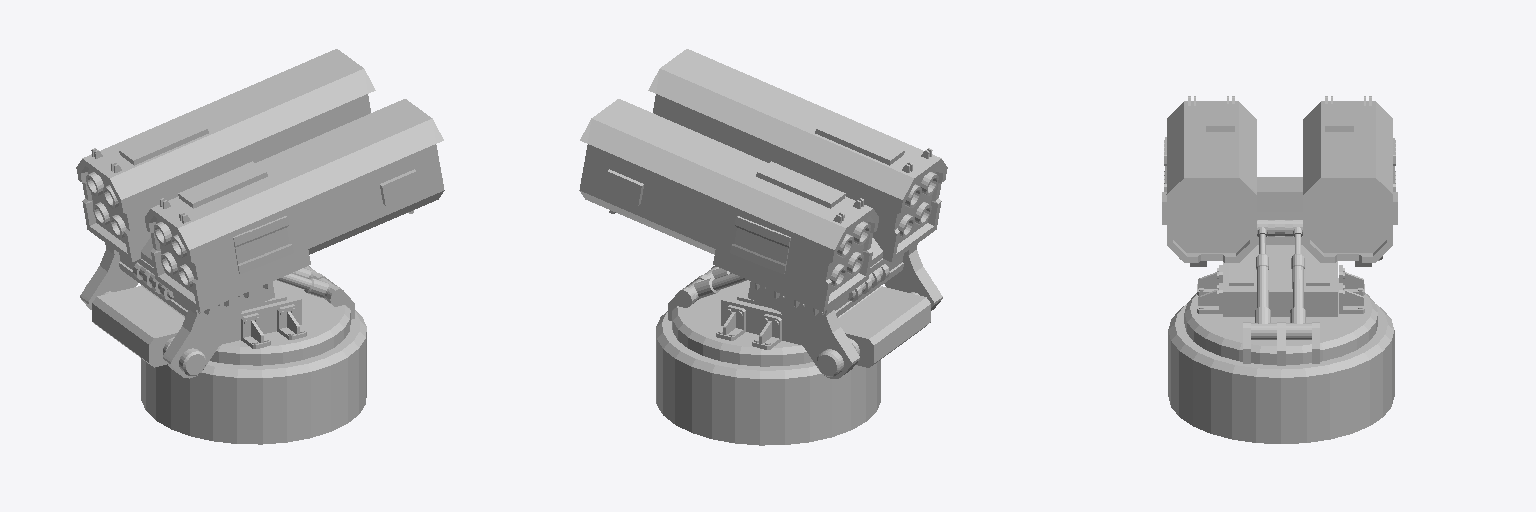
3 renders of one model, left to right at view 1: azimuth 30°, elevation 25°; view 2: azimuth 150°, elevation 25°; view 3: azimuth 270°, elevation 25°, orthographic.
Parts seen in each view (by area): view 1: SM_Bazooka_Mp_01; view 2: SM_Bazooka_Mp_01; view 3: SM_Bazooka_Mp_01.
Part boxes in pixels (x1,y1,x2,y2): SM_Bazooka_Mp_01: (76, 49, 444, 444); SM_Bazooka_Mp_01: (579, 49, 947, 445); SM_Bazooka_Mp_01: (1162, 96, 1397, 443).
Bounding box in the file's own units: 2.05 × 2.05 × 1.55.